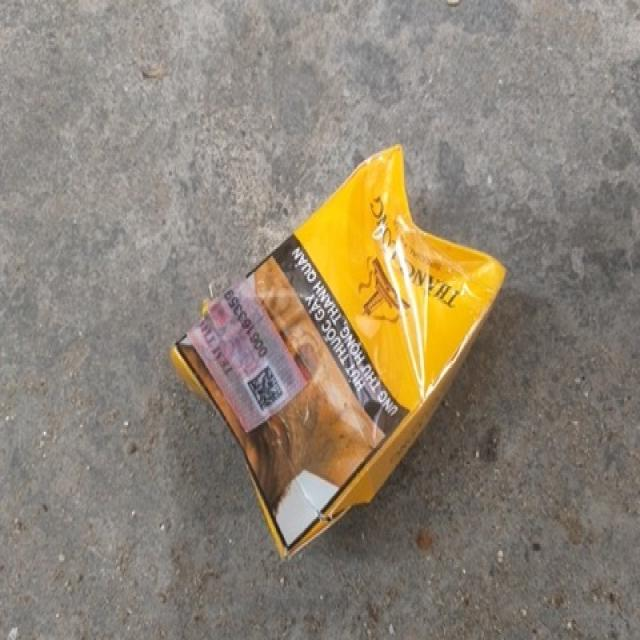PaperCardboard: (163, 142, 512, 562)
